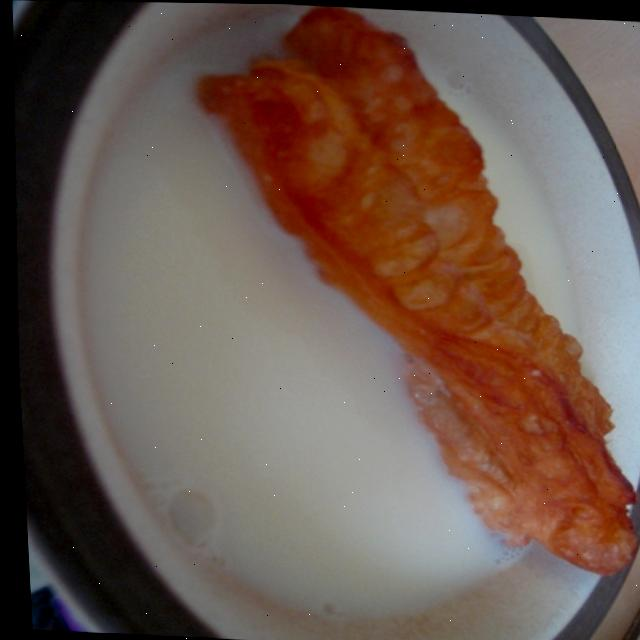炸货点心: (169, 2, 640, 581)
